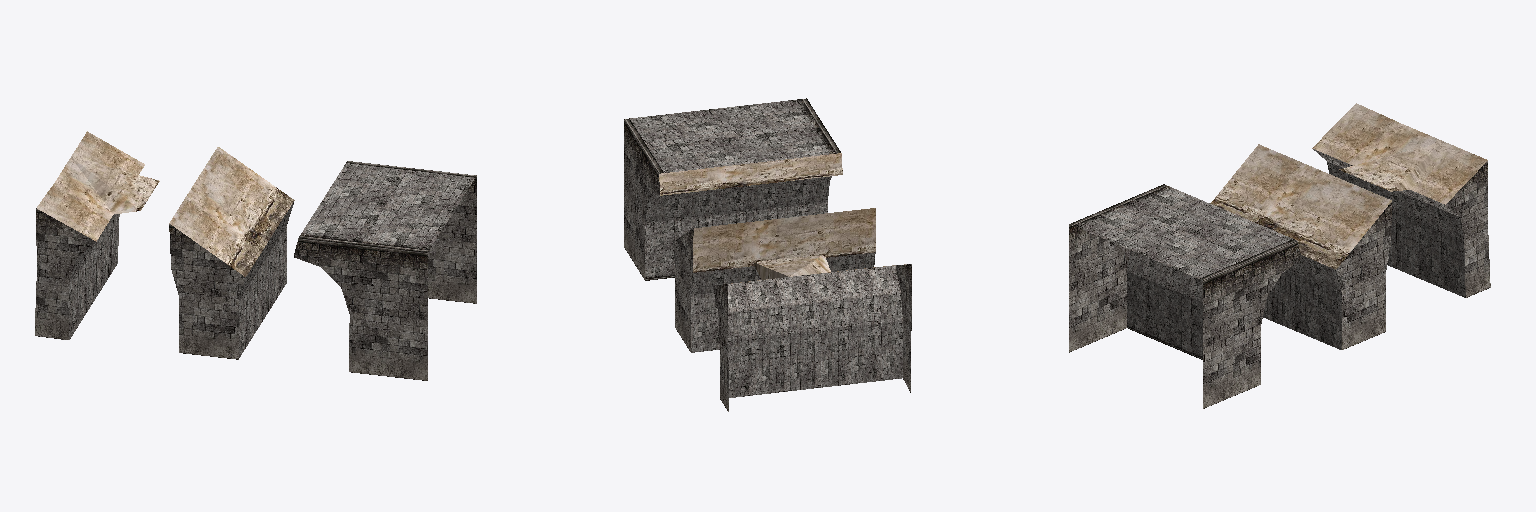
3 views of the same model, side by side, from view 1: azimuth 30°, elevation 25°; view 2: azimuth 150°, elevation 25°; view 3: azimuth 270°, elevation 25° (orthographic).
Visible parts, largest first — view 1: bridge03; view 2: bridge03; view 3: bridge03.
Boxes of the visible parts, x1,y1,x2,y2 form: bridge03: [35, 131, 476, 380]; bridge03: [624, 98, 911, 411]; bridge03: [1069, 103, 1490, 408].
Size of the model in its own units: 890 by 300 by 892.
Materials: 3 (3 with a texture image).